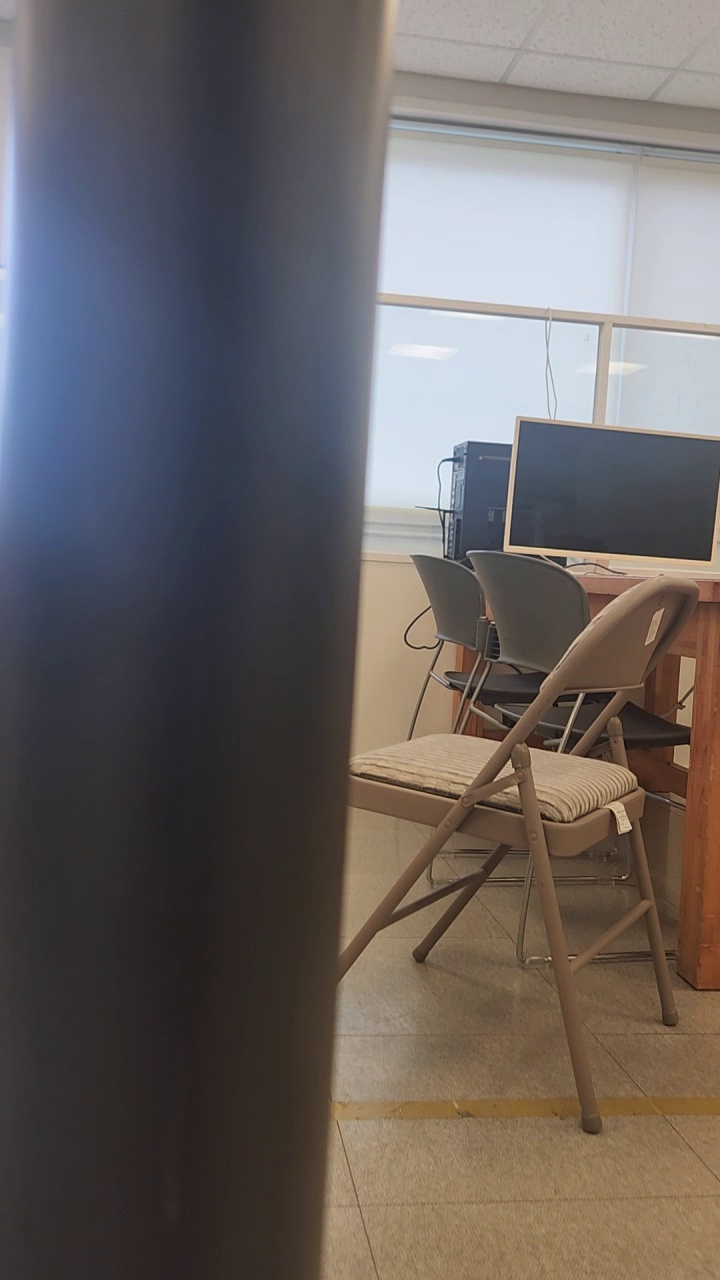pole: (0, 0, 388, 1279)
